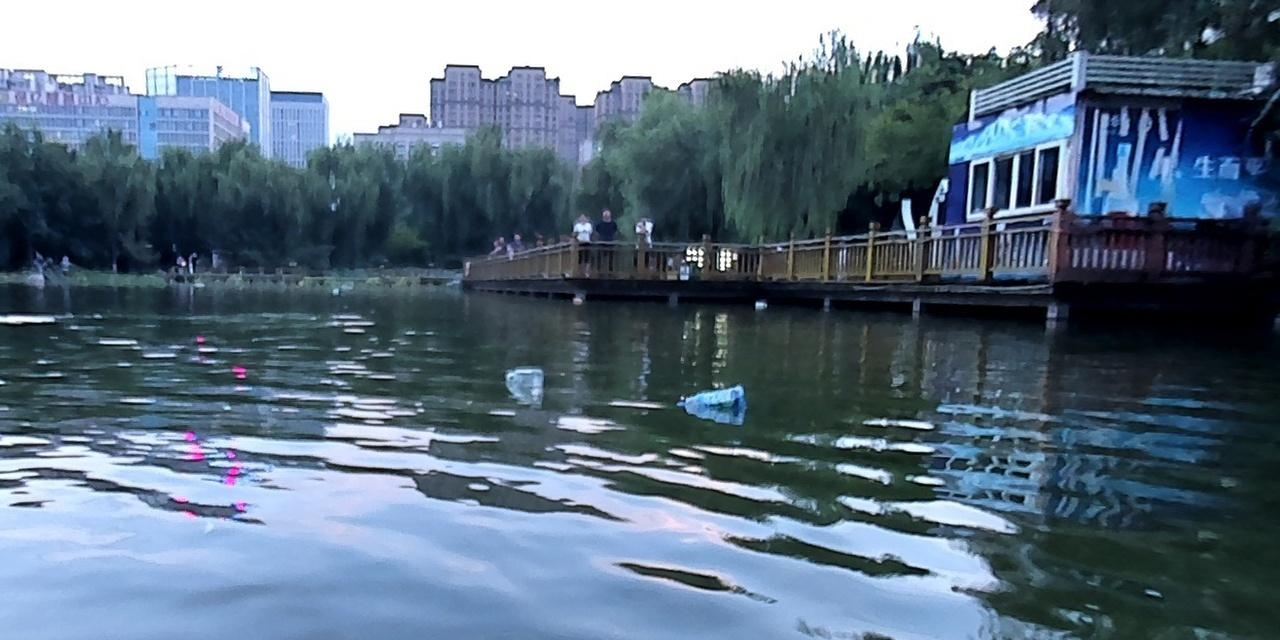bottle: (675, 383, 745, 407), (503, 366, 543, 385), (753, 300, 767, 308)
